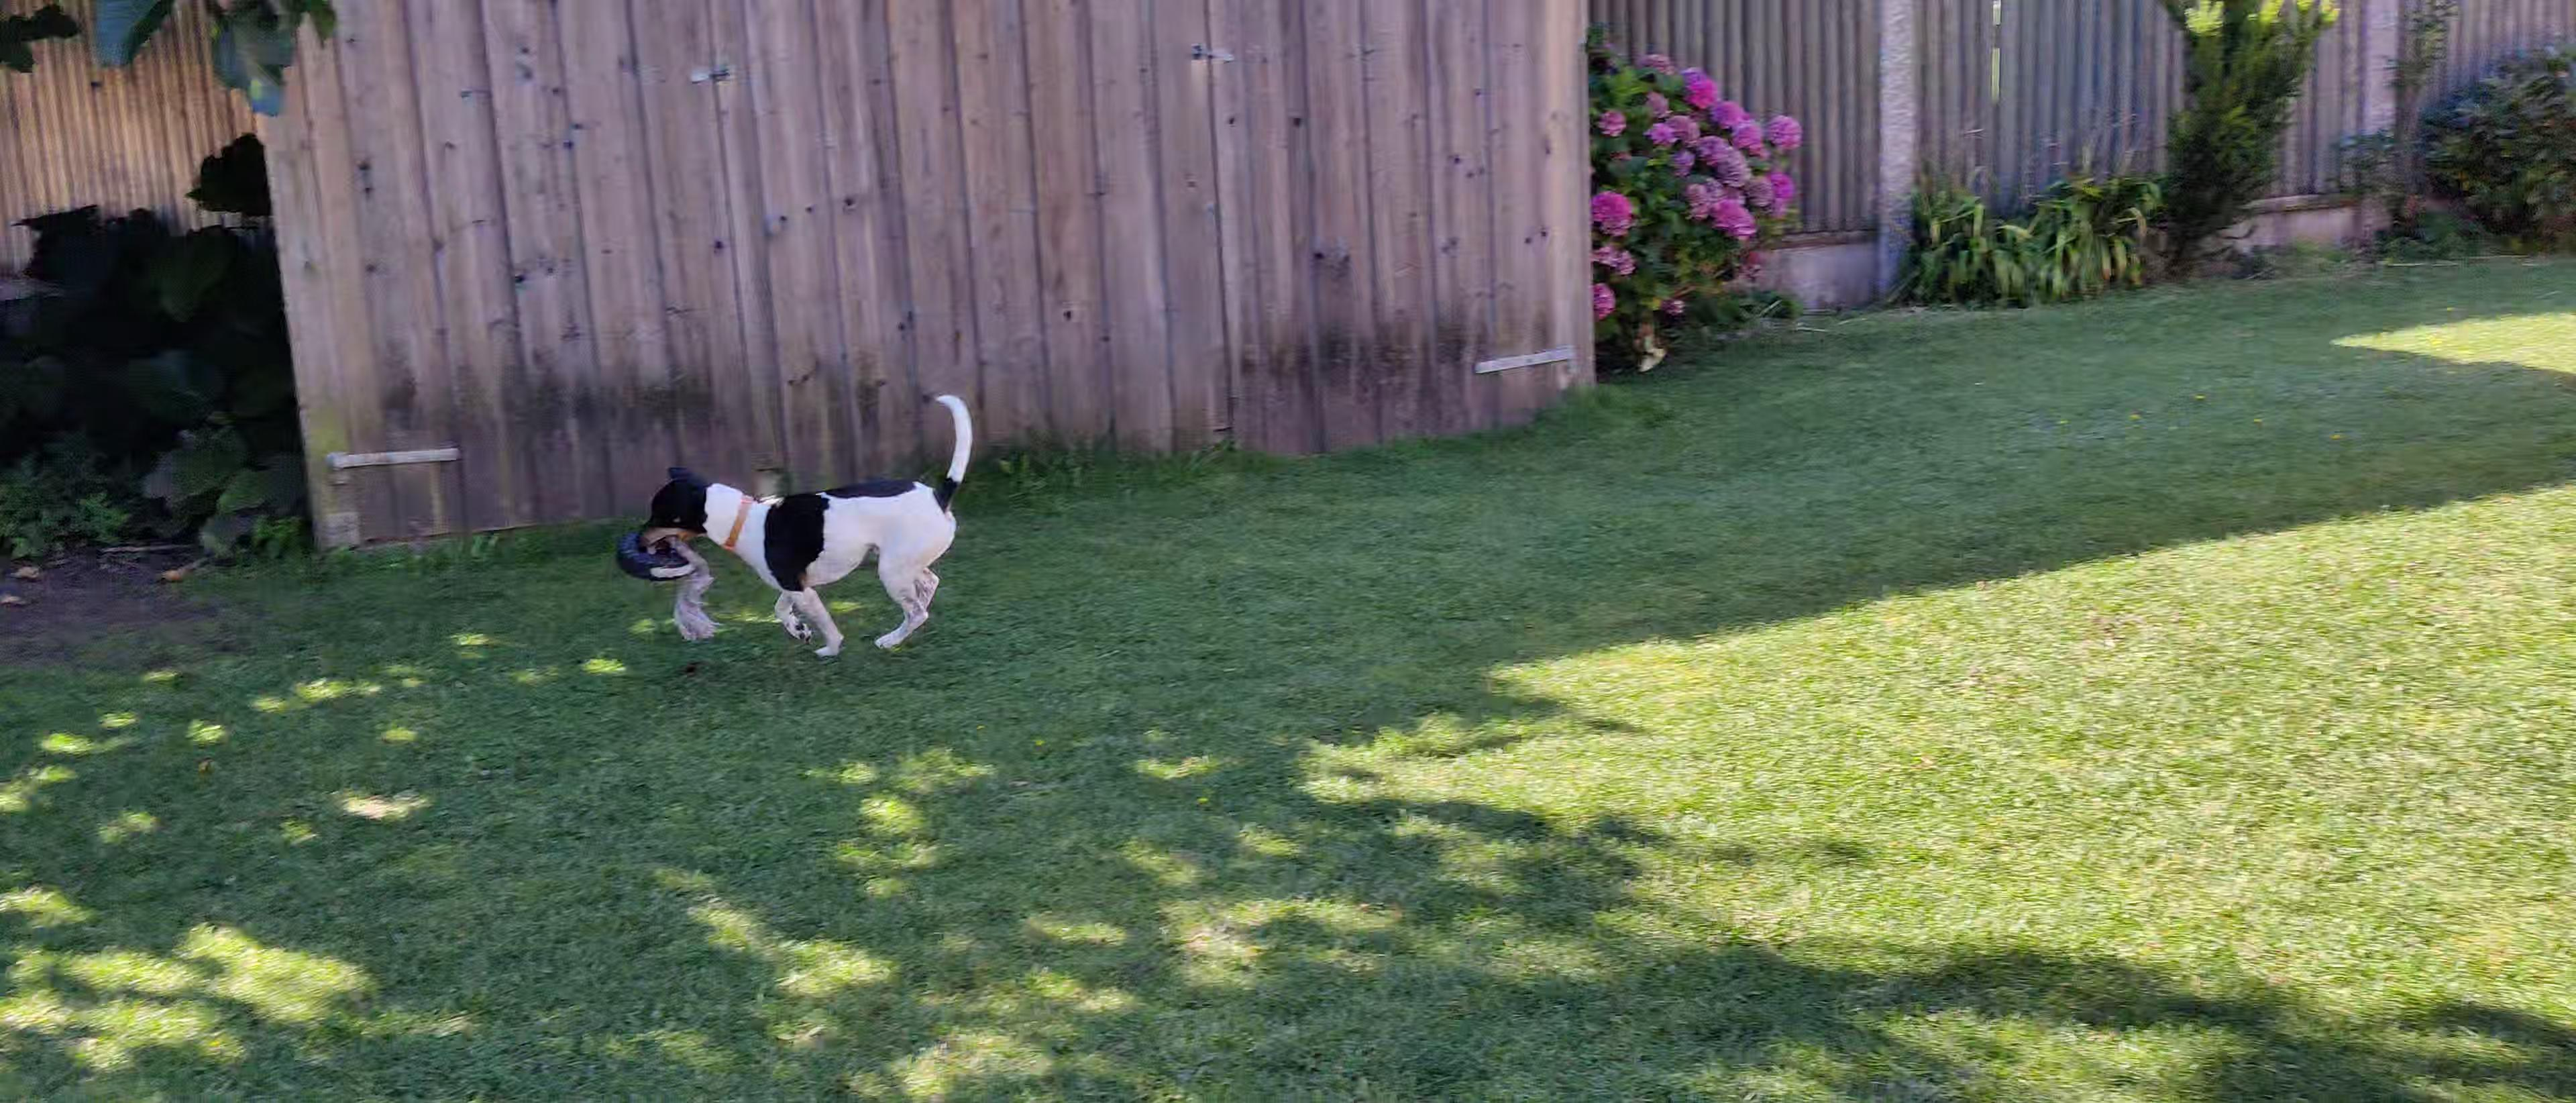Dog: (618, 378, 992, 674)
